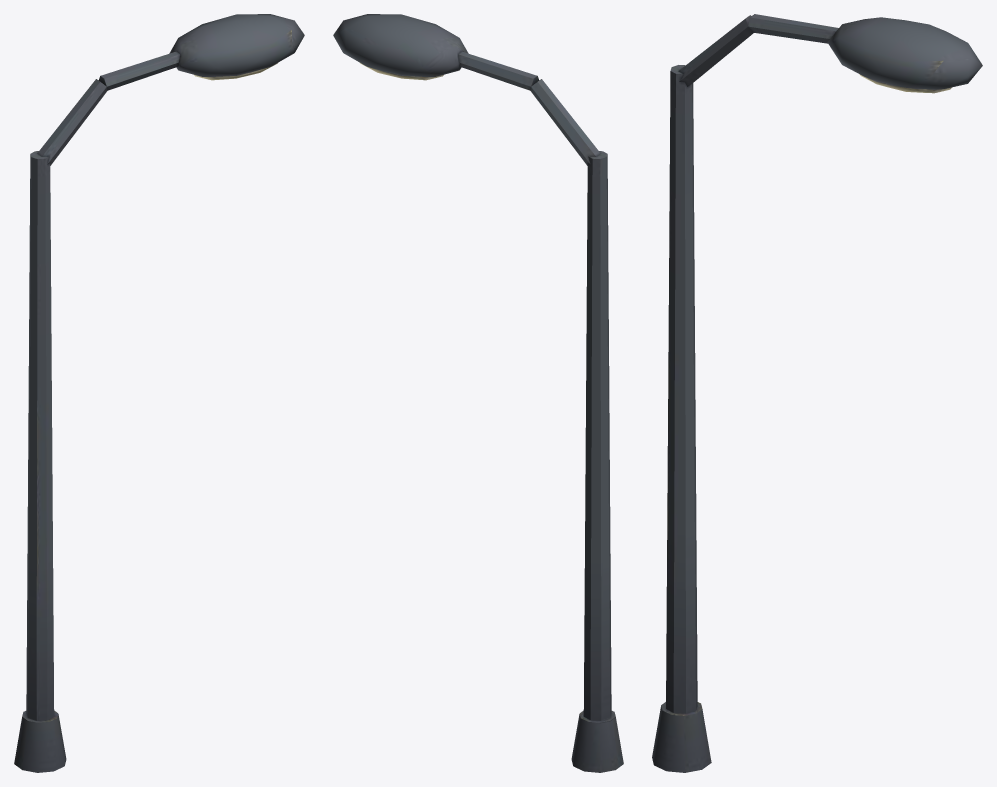
Rendered from farola_ciudad.glb.
The picture shows the model from 3 angles, left to right: view 1: azimuth 30°, elevation 25°; view 2: azimuth 150°, elevation 25°; view 3: azimuth 330°, elevation 25°; orthographic projection. The views are drawn at different scales.
Visible parts, largest first — view 1: farola_ciudad; view 2: farola_ciudad; view 3: farola_ciudad.
Boxes of the visible parts, x1,y1,x2,y2 form: farola_ciudad: [14, 14, 304, 772]; farola_ciudad: [333, 14, 623, 772]; farola_ciudad: [652, 14, 982, 772].
Size of the model in its own units: 1.57 by 3.71 by 0.416.
1 material, 1 textured.
